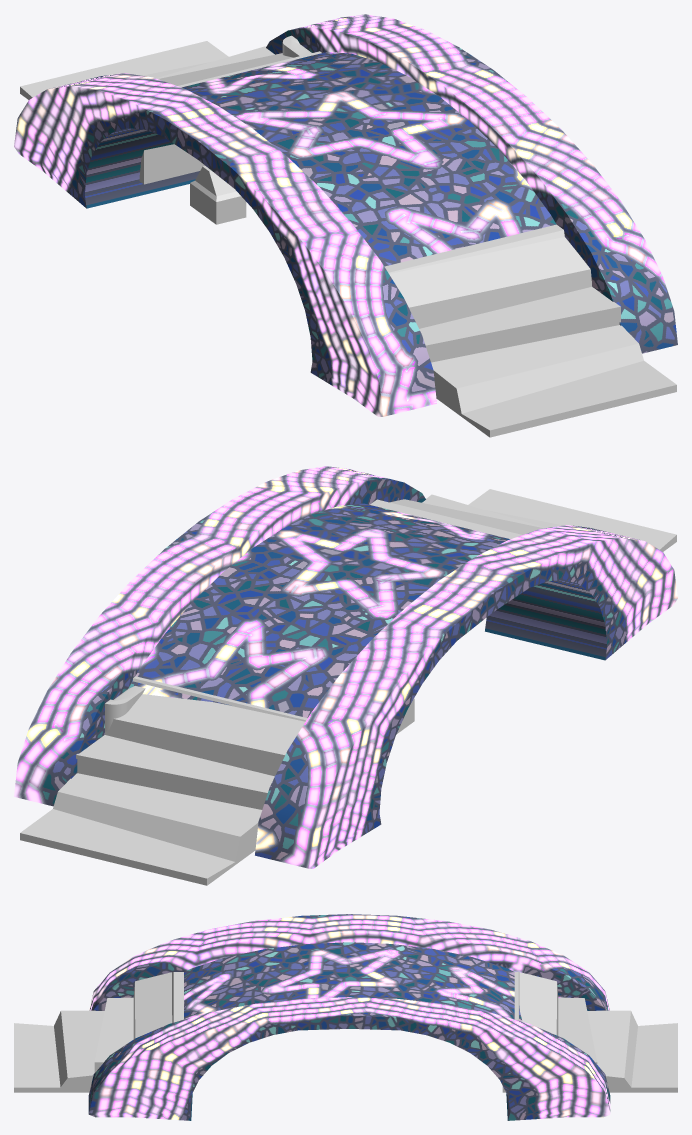
File: Bridge.fbx
The picture shows the model from 3 angles, top to bottom: view 1: azimuth 30°, elevation 25°; view 2: azimuth 150°, elevation 25°; view 3: azimuth 270°, elevation 25°; orthographic projection. The views are drawn at different scales.
Visible parts, largest first — view 1: Cylinder.001, Cylinder, Cube.001, Cube.002; view 2: Cylinder.001, Cylinder, Cube.001, Cube; view 3: Cylinder.001, Cube.001, Cylinder.
Part boxes in pixels (x1=…): Cylinder.001: x1=14, y1=14, x2=677, y2=416; Cylinder: x1=85, y1=51, x2=556, y2=266; Cube.001: x1=20, y1=41, x2=676, y2=437; Cube.002: x1=190, y1=166, x2=246, y2=224; Cylinder.001: x1=14, y1=466, x2=677, y2=868; Cylinder: x1=128, y1=503, x2=606, y2=717; Cube.001: x1=20, y1=489, x2=676, y2=885; Cube: x1=105, y1=683, x2=145, y2=731; Cylinder.001: x1=88, y1=914, x2=610, y2=1120; Cube.001: x1=14, y1=972, x2=677, y2=1092; Cylinder: x1=184, y1=942, x2=522, y2=1120.
Bounding box in the file's own units: 104 × 50.02 × 286.
